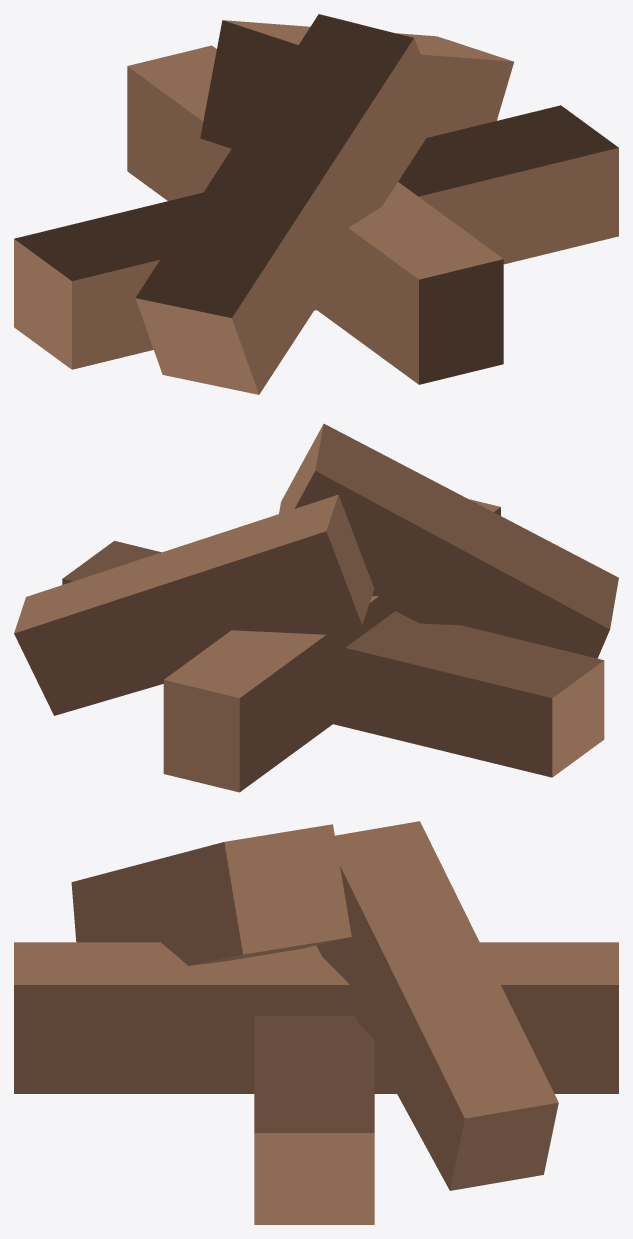
The model's file is SM_Prop_Generic_CampFire_01.glb.
The picture shows the model from 3 angles, top to bottom: view 1: azimuth 30°, elevation 25°; view 2: azimuth 150°, elevation 25°; view 3: azimuth 270°, elevation 25°; orthographic projection. The views are drawn at different scales.
Parts seen in each view (by area): view 1: SM_Prop_Generic_CampFire_01; view 2: SM_Prop_Generic_CampFire_01; view 3: SM_Prop_Generic_CampFire_01.
Boxes of the visible parts, x1,y1,x2,y2 form: SM_Prop_Generic_CampFire_01: (14,14,618,394); SM_Prop_Generic_CampFire_01: (14,424,618,792); SM_Prop_Generic_CampFire_01: (14,821,618,1224).
Bounding box in the file's own units: 0.3514 × 0.1612 × 0.3248.
Materials: 1 (1 with a texture image).
